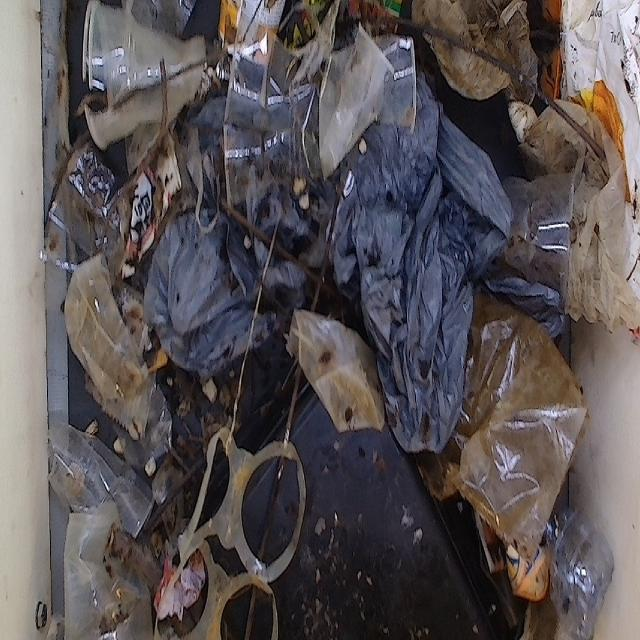food_packaging: (557, 0, 640, 235), (124, 136, 180, 256), (495, 516, 544, 603), (217, 2, 284, 62)
pet_bottles: (544, 496, 606, 640)
plastic_cups: (65, 0, 210, 148), (60, 496, 154, 640), (293, 28, 421, 123)
plastic_films: (435, 276, 593, 552), (506, 67, 640, 336), (152, 402, 301, 640), (60, 221, 151, 443), (215, 40, 323, 221), (47, 390, 152, 557), (400, 0, 551, 110), (291, 292, 389, 446), (52, 117, 130, 304)
